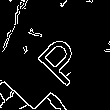P_NW: (24, 24, 86, 86)
